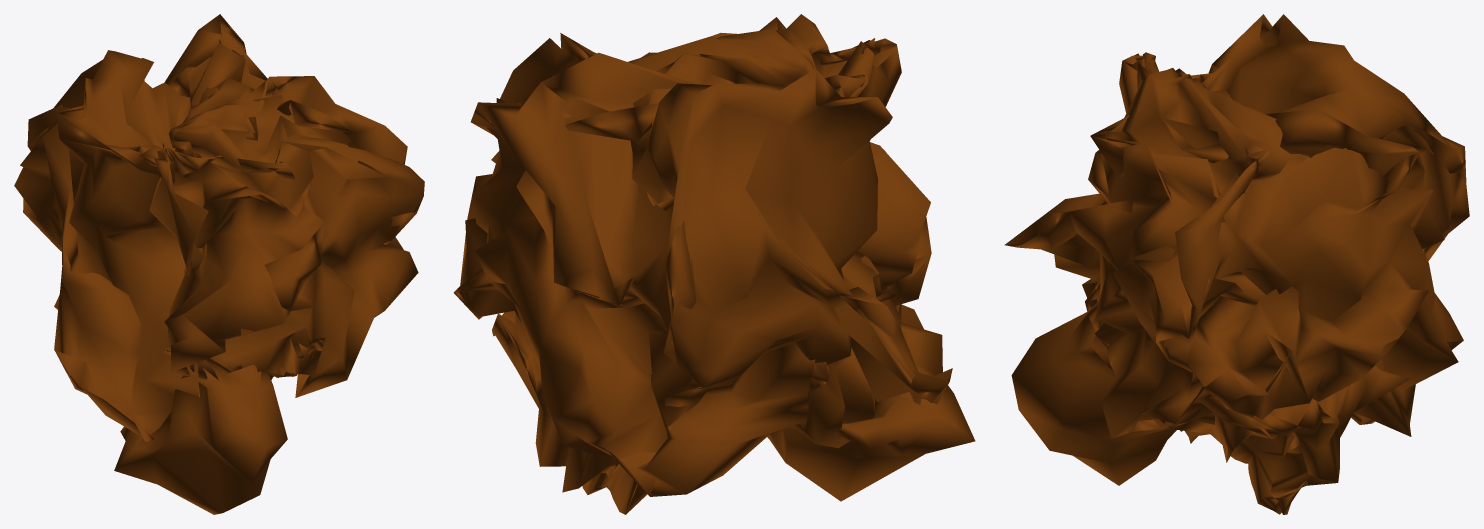
The model's file is Astroid Model 05.FBX.
3 views of the same model, side by side, from view 1: azimuth 30°, elevation 25°; view 2: azimuth 150°, elevation 25°; view 3: azimuth 270°, elevation 25° (orthographic). The views are drawn at different scales.
Visible parts, largest first — view 1: Sphere001; view 2: Sphere001; view 3: Sphere001.
Boxes of the visible parts, x1,y1,x2,y2 form: Sphere001: (14, 14, 424, 514); Sphere001: (453, 14, 975, 514); Sphere001: (1004, 14, 1469, 514).
Bounding box in the file's own units: 114 × 127 × 121.
